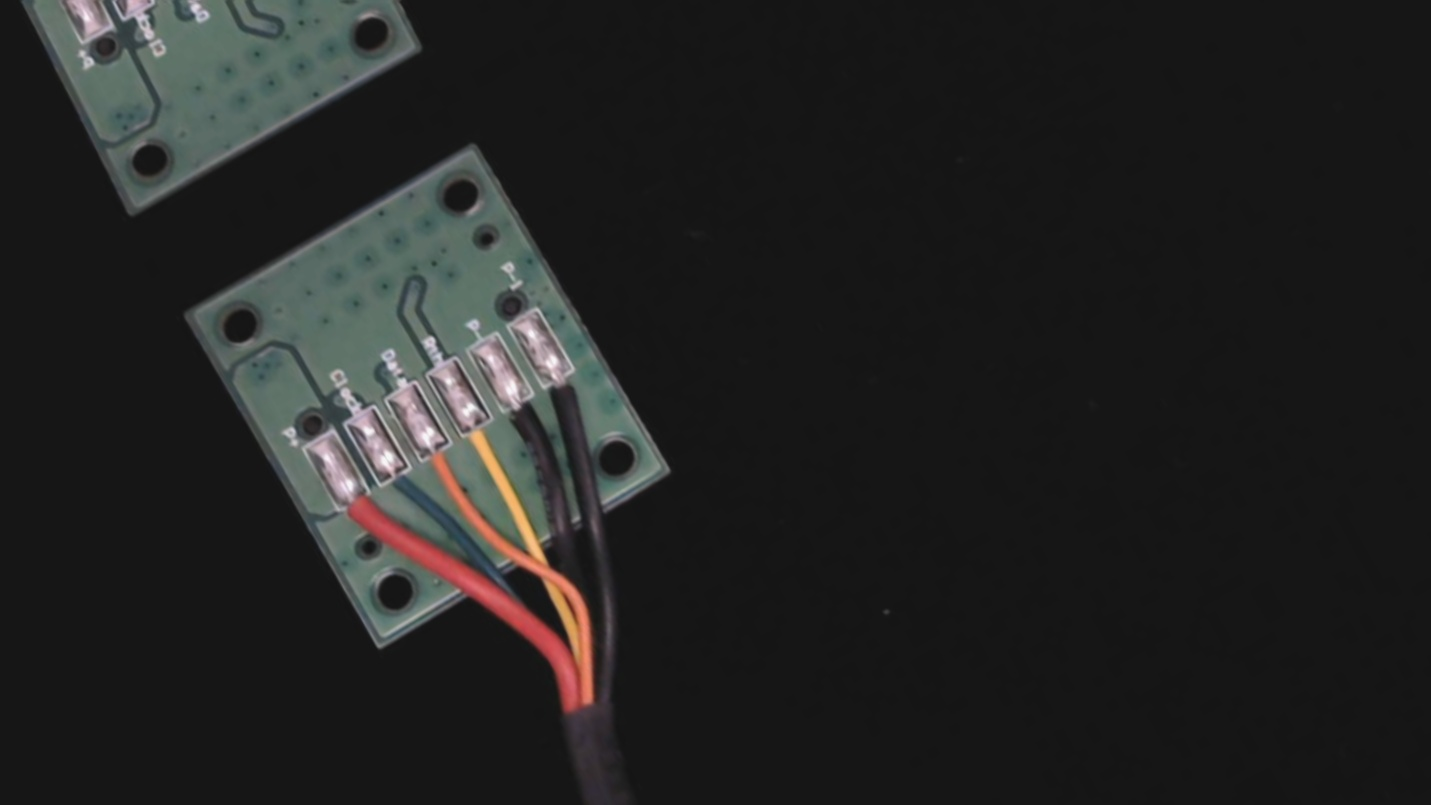Black: (489, 380, 566, 464)
Black1: (529, 354, 611, 443)
Green: (365, 449, 435, 524)
Orange: (403, 425, 482, 512)
Red: (322, 473, 403, 560)
Yellow: (446, 401, 524, 487)
